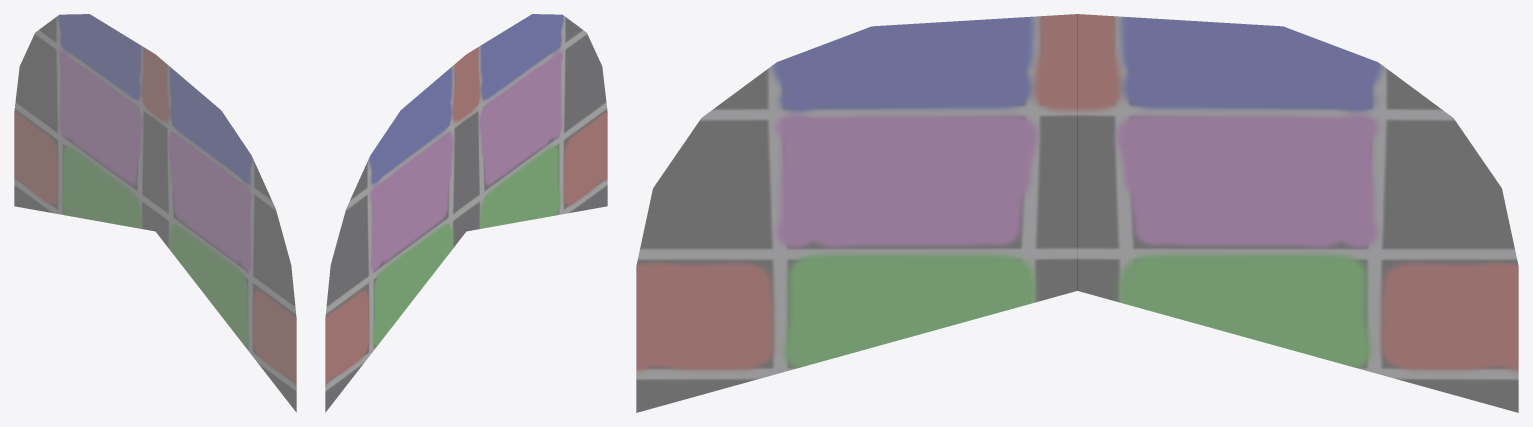
Rendered from Door_WindowTop_Window.fbx.
The picture shows the model from 3 angles, left to right: view 1: azimuth 30°, elevation 25°; view 2: azimuth 150°, elevation 25°; view 3: azimuth 270°, elevation 25°; orthographic projection. The views are drawn at different scales.
Visible parts, largest first — view 1: TopDoorWindow; view 2: TopDoorWindow; view 3: TopDoorWindow.
Part boxes in pixels (x1=…): TopDoorWindow: x1=14, y1=14, x2=296, y2=412; TopDoorWindow: x1=325, y1=14, x2=607, y2=412; TopDoorWindow: x1=636, y1=14, x2=1518, y2=412.
Size of the model in its own units: 975 by 486 by 8.53e-05.
Materials: 1 (1 with a texture image).
